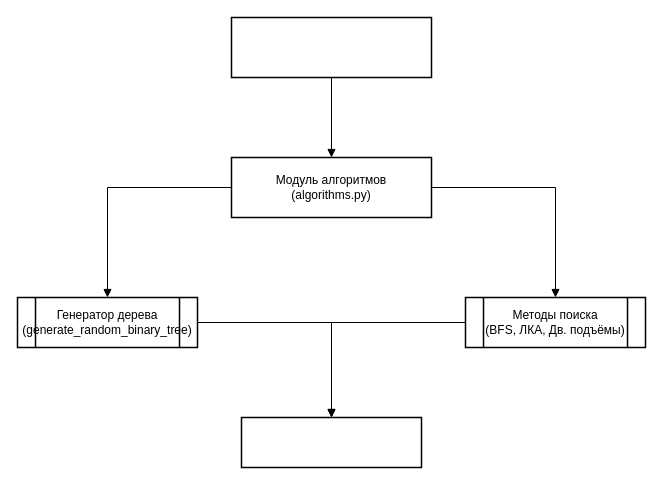
The diagram is 664 pixels wide and 486 high, and some of its shapes have lost their labels. Each missing label, with the centre of its shape:
Интерфейс пользователя (main.py / PyQt5): pixel 331 47
Контейнер результатов (SearchResult): pixel 331 442
